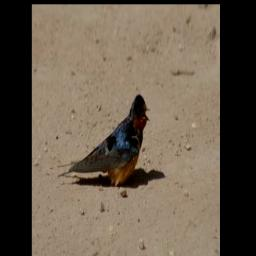Swallow: (58, 92, 150, 184)
